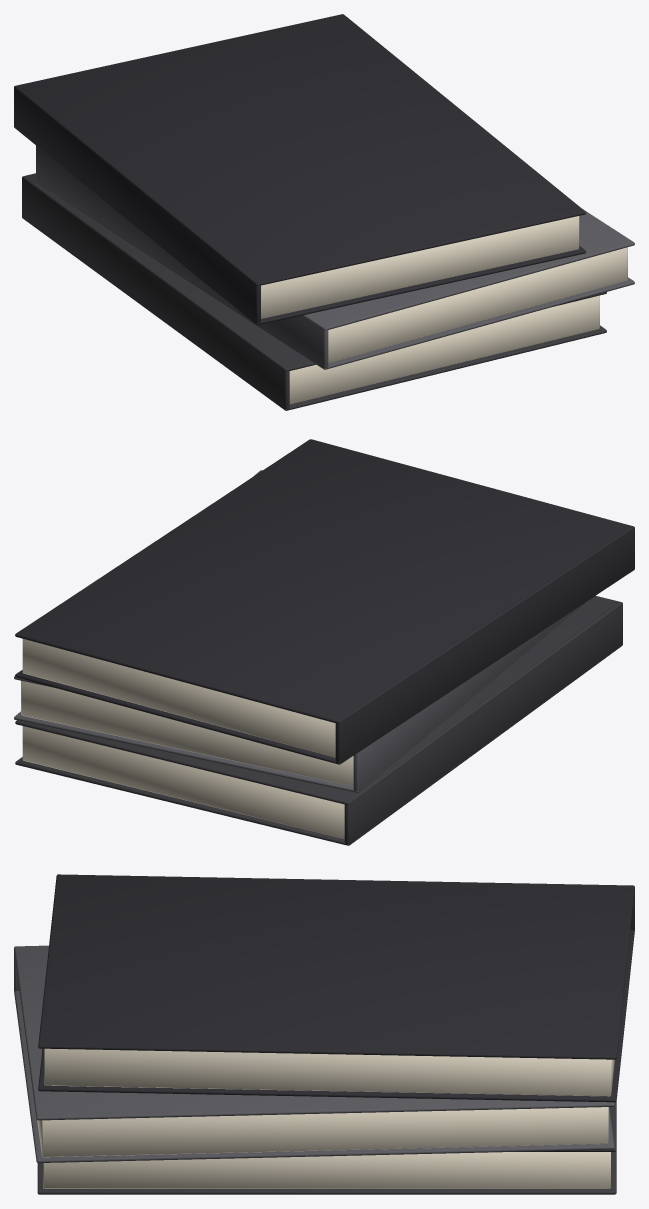
File: volume_stack.glb
3 views of the same model, one above another, from view 1: azimuth 30°, elevation 25°; view 2: azimuth 150°, elevation 25°; view 3: azimuth 270°, elevation 25° (orthographic). The views are drawn at different scales.
Visible parts, largest first — view 1: volume_3, volume_1, volume_2, volume_3_pages, volume_2_pages, volume_1_pages; view 2: volume_3, volume_1, volume_1_pages, volume_3_pages, volume_2_pages, volume_2; view 3: volume_3, volume_2_pages, volume_3_pages, volume_1_pages, volume_2, volume_1.
Boxes of the visible parts, box(x1,y1,x2,y2) form: volume_3: box(14, 14, 585, 325); volume_1: box(22, 173, 606, 410); volume_2: box(35, 145, 634, 369); volume_3_pages: box(261, 216, 579, 318); volume_2_pages: box(328, 247, 627, 362); volume_1_pages: box(289, 295, 599, 404); volume_3: box(15, 439, 634, 764); volume_1: box(15, 595, 622, 845); volume_1_pages: box(22, 726, 344, 838); volume_3_pages: box(22, 639, 335, 757); volume_2_pages: box(21, 681, 353, 786); volume_2: box(14, 470, 585, 792); volume_3: box(38, 874, 634, 1102); volume_2_pages: box(37, 1107, 608, 1157); volume_3_pages: box(44, 1048, 614, 1096); volume_1_pages: box(43, 1152, 610, 1188); volume_2: box(14, 945, 614, 1162); volume_1: box(37, 1101, 616, 1194).
Bounding box in the file's own units: 0.1431 × 0.0467 × 0.19.
